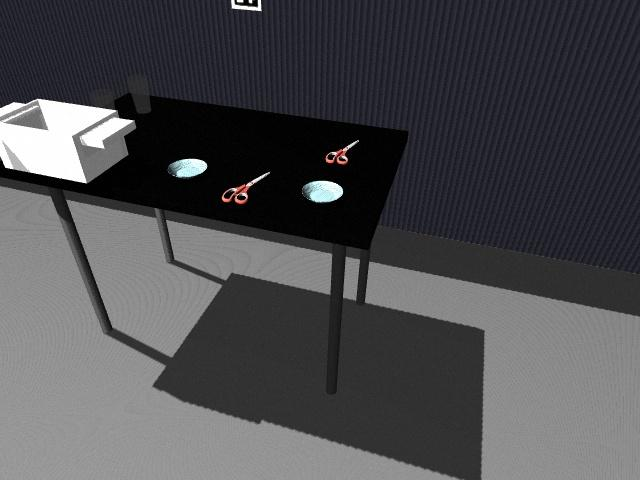cup: (126, 75, 152, 113), (89, 89, 115, 111)
plate: (301, 178, 346, 204), (167, 158, 208, 179)
scissors: (220, 170, 271, 205), (324, 140, 358, 165)
